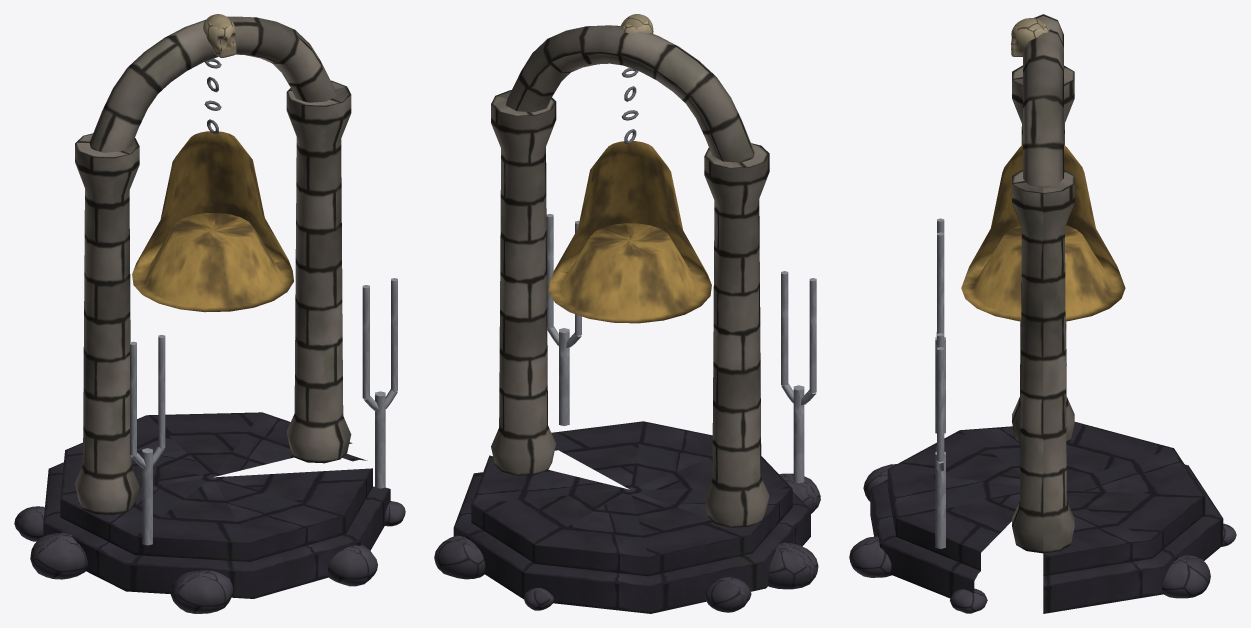
Rendered from resonator.glb.
3 views of the same model, side by side, from view 1: azimuth 30°, elevation 25°; view 2: azimuth 150°, elevation 25°; view 3: azimuth 270°, elevation 25° (orthographic).
Parts seen in each view (by area): view 1: Base, Turret; view 2: Base, Turret; view 3: Base, Turret.
Boxes of the visible parts, x1=… form: Base: x1=14, y1=14, x2=405, y2=613; Turret: x1=132, y1=131, x2=293, y2=312; Base: x1=434, y1=14, x2=820, y2=613; Turret: x1=548, y1=141, x2=711, y2=323; Base: x1=849, y1=14, x2=1236, y2=613; Turret: x1=961, y1=145, x2=1125, y2=321.
Bounding box in the file's own units: 0.9546 × 1.43 × 0.9428.
Materials: 7 (7 with a texture image).
